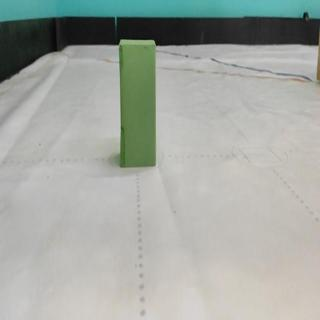greenbox: (119, 37, 157, 169)
